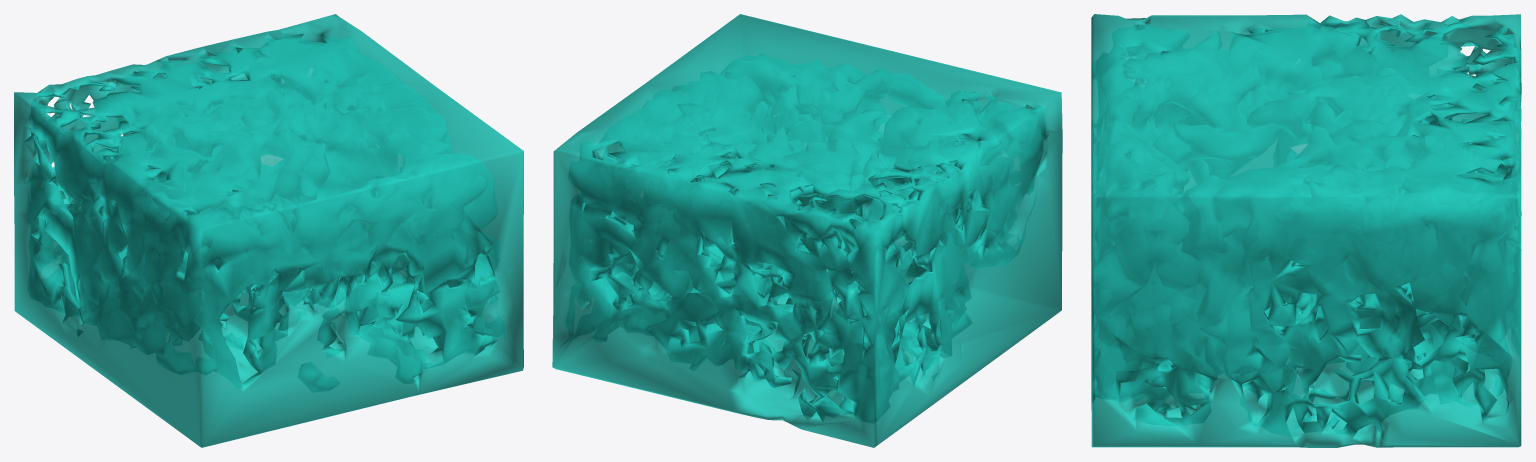
3 renders of one model, left to right at view 1: azimuth 30°, elevation 25°; view 2: azimuth 150°, elevation 25°; view 3: azimuth 270°, elevation 25°, orthographic. The views are drawn at different scales.
Visible parts, largest first — view 1: Liquid_Domain; view 2: Liquid_Domain; view 3: Liquid_Domain.
Boxes of the visible parts, x1=… form: Liquid_Domain: x1=14, y1=14, x2=523, y2=447; Liquid_Domain: x1=552, y1=14, x2=1062, y2=447; Liquid_Domain: x1=1091, y1=14, x2=1521, y2=447.
Size of the model in its own units: 391 by 254 by 391.
